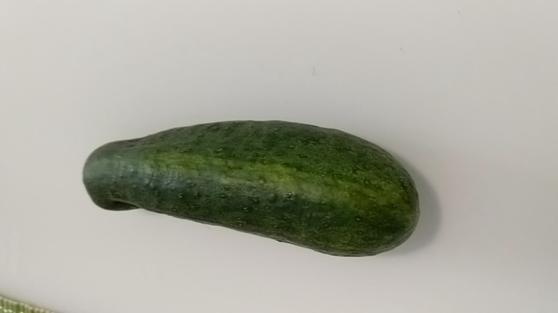cucumber: (78, 117, 420, 260)
